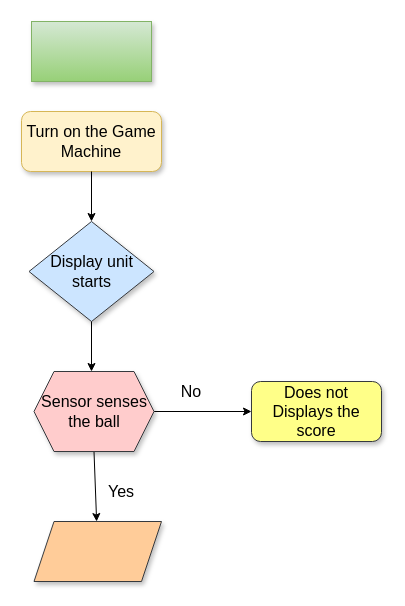
This 405x606 diagram has some shape labels left out. The shapes that lost their labels are listed below. From the top down, each one's centre as x and y in pixels, then its label:
At (92,52): "Score-board".
At (98,552): "Displays the score".
